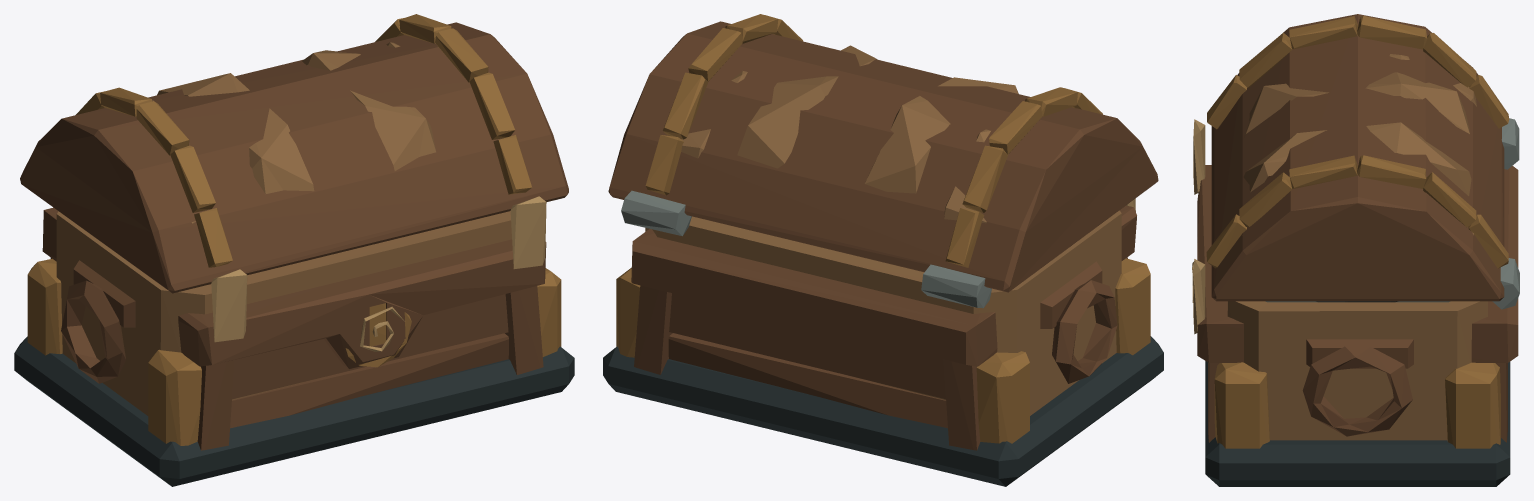
File: FERNSTONE_CACHE.lo.glb
3 views of the same model, side by side, from view 1: azimuth 30°, elevation 25°; view 2: azimuth 150°, elevation 25°; view 3: azimuth 270°, elevation 25° (orthographic). The views are drawn at different scales.
Visible parts, largest first — view 1: Body_Mesh, LidPivot_Mesh; view 2: Body_Mesh, LidPivot_Mesh; view 3: LidPivot_Mesh, Body_Mesh.
Boxes of the visible parts, bbox=[...] form: Body_Mesh: bbox=[14, 196, 574, 486]; LidPivot_Mesh: bbox=[20, 14, 568, 293]; Body_Mesh: bbox=[603, 190, 1163, 486]; LidPivot_Mesh: bbox=[608, 14, 1158, 292]; LidPivot_Mesh: bbox=[1206, 14, 1509, 301]; Body_Mesh: bbox=[1192, 118, 1519, 486].
Size of the model in its own units: 1.5 by 1.09 by 1.05.
